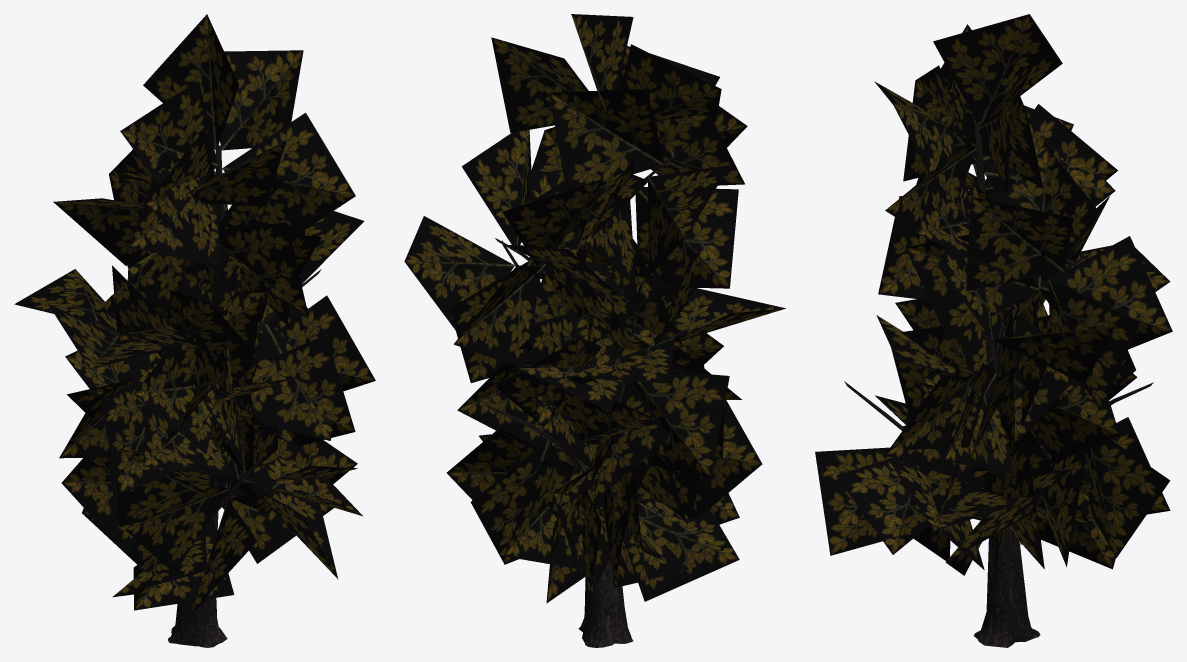
The model's file is tree_7.glb.
3 views of the same model, side by side, from view 1: azimuth 30°, elevation 25°; view 2: azimuth 150°, elevation 25°; view 3: azimuth 270°, elevation 25° (orthographic). The views are drawn at different scales.
Visible parts, largest first — view 1: tree_7; view 2: tree_7; view 3: tree_7.
Boxes of the visible parts, x1=… form: tree_7: x1=14, y1=14, x2=375, y2=647; tree_7: x1=404, y1=14, x2=785, y2=647; tree_7: x1=815, y1=14, x2=1172, y2=647.
Size of the model in its own units: 4.48 by 8.29 by 4.25.
2 materials, 2 textured.
